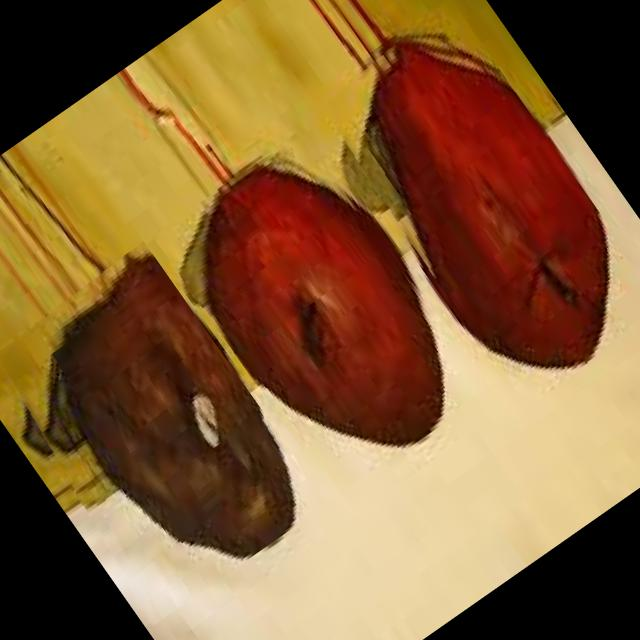Organic: (150, 125, 503, 518), (302, 0, 640, 410), (0, 238, 326, 625)
